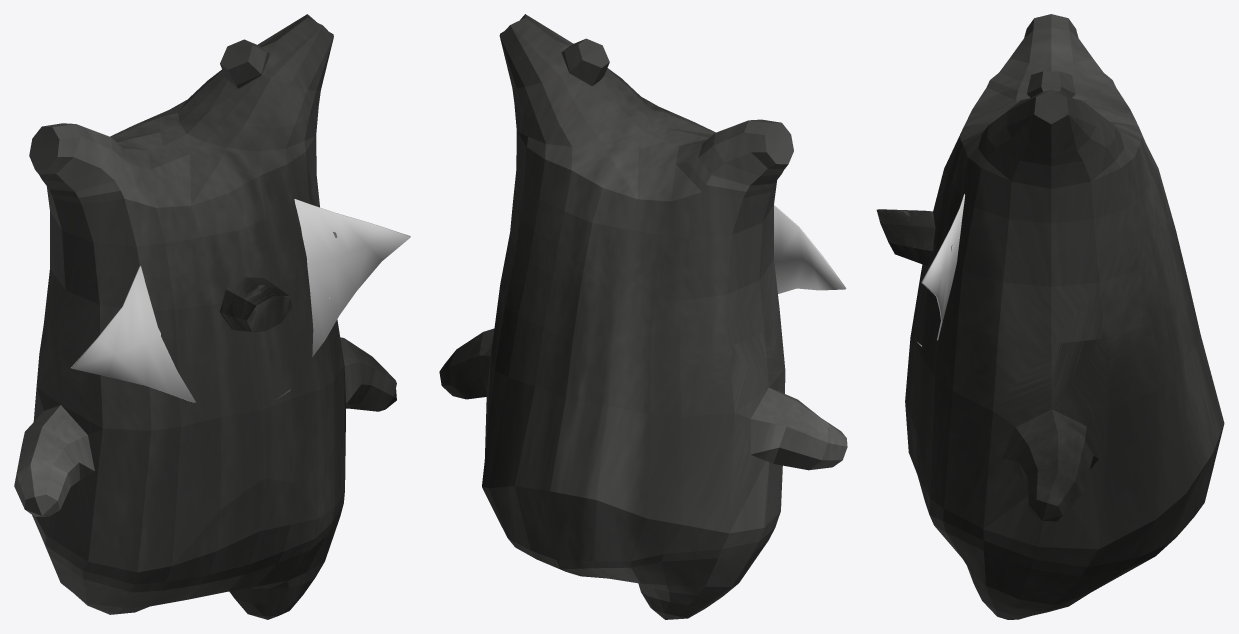
File: frame_0007.obj
3 views of the same model, side by side, from view 1: azimuth 30°, elevation 25°; view 2: azimuth 150°, elevation 25°; view 3: azimuth 270°, elevation 25° (orthographic). The views are drawn at different scales.
Visible parts, largest first — view 1: korok, leaf, nose; view 2: korok, leaf; view 3: korok, nose, leaf.
Boxes of the visible parts, bbox=[...] form: korok: bbox=[14, 14, 396, 619]; leaf: bbox=[71, 199, 410, 402]; nose: bbox=[220, 276, 292, 331]; korok: bbox=[439, 14, 847, 619]; leaf: bbox=[774, 205, 846, 293]; korok: bbox=[905, 14, 1224, 619]; nose: bbox=[876, 209, 935, 265]; leaf: bbox=[917, 194, 965, 346].
Size of the model in its own units: 1.62 by 2.24 by 1.27.
